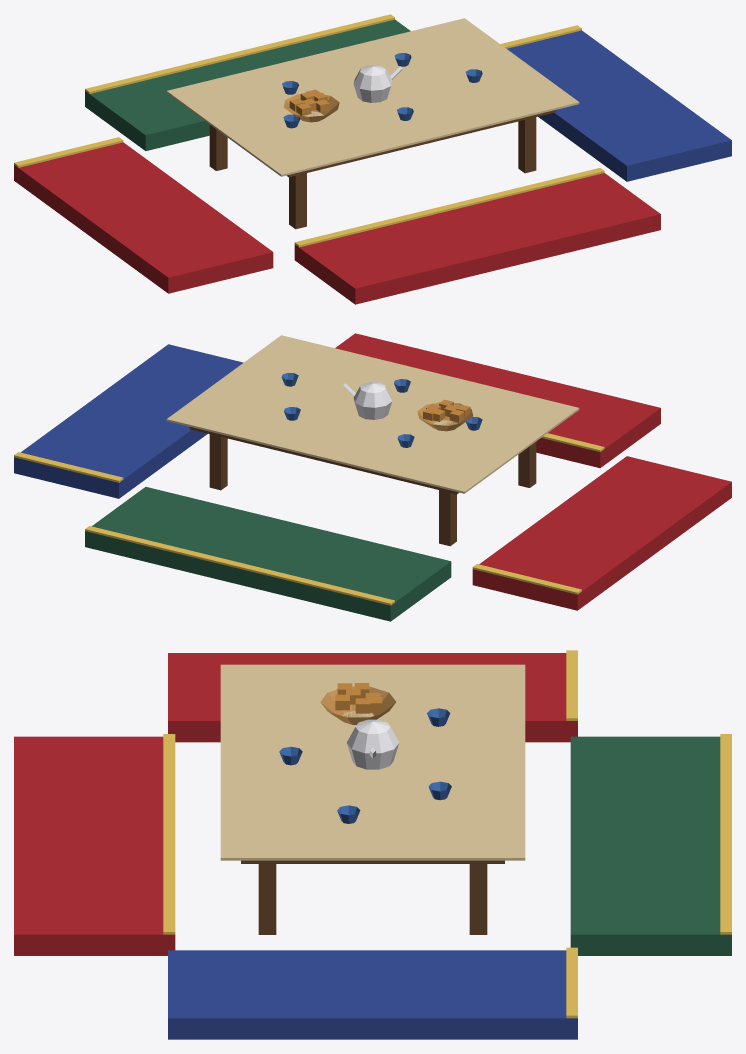
Rendered from Interior_Dastorkon.obj.
3 views of the same model, one above another, from view 1: azimuth 30°, elevation 25°; view 2: azimuth 150°, elevation 25°; view 3: azimuth 270°, elevation 25° (orthographic). The views are drawn at different scales.
Parts seen in each view (by area): view 1: Interior_Dastorkon; view 2: Interior_Dastorkon; view 3: Interior_Dastorkon.
Part boxes in pixels (x1,y1,x2,y2): Interior_Dastorkon: (14, 14, 731, 304); Interior_Dastorkon: (14, 333, 731, 621); Interior_Dastorkon: (14, 650, 731, 1039).
Bounding box in the file's own units: 2.95 × 0.51 × 2.45.
